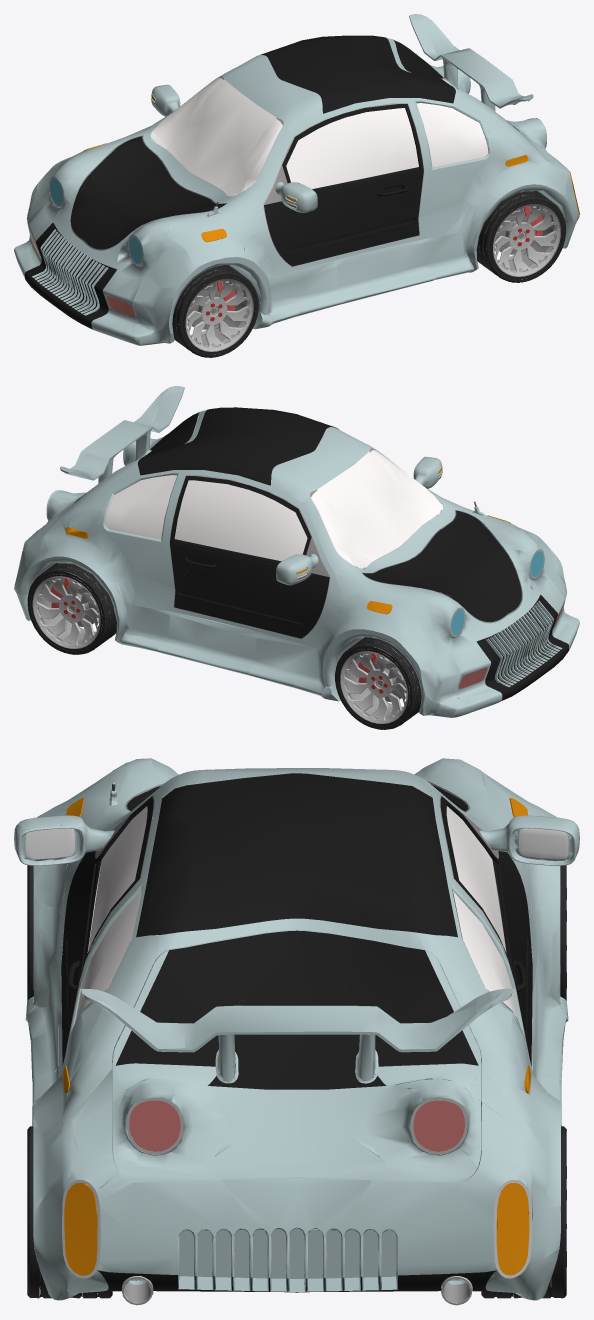
3 views of the same model, one above another, from view 1: azimuth 30°, elevation 25°; view 2: azimuth 150°, elevation 25°; view 3: azimuth 270°, elevation 25° (orthographic). The views are drawn at different scales.
Visible parts, largest first — view 1: Mesh_10.001_LOD_5, door left:1.001_LOD_5, whell v7:2.001_LOD_5, whell v7:1.001_LOD_5, door left(Symétrie miroir):1.001_LOD_5; view 2: Mesh_10.001_LOD_5, door left:1.001_LOD_5, door left(Symétrie miroir):1.001_LOD_5, whell v6(Symétrie miroir):2.001_LOD_5, whell v6(Symétrie miroir):1.001_LOD_5; view 3: Mesh_10.001_LOD_5, door left:1.001_LOD_5, door left(Symétrie miroir):1.001_LOD_5, whell v7:2.001_LOD_5, whell v6(Symétrie miroir):2.001_LOD_5, whell v7:1.001_LOD_5, whell v6(Symétrie miroir):1.001_LOD_5.
Part boxes in pixels (x1,y1,x2,y2): Mesh_10.001_LOD_5: (14,14,579,345); door left:1.001_LOD_5: (263,103,424,267); whell v7:2.001_LOD_5: (476,191,565,282); whell v7:1.001_LOD_5: (172,265,258,357); door left(Symétrie miroir):1.001_LOD_5: (151,84,180,116); Mesh_10.001_LOD_5: (14,386,579,717); door left:1.001_LOD_5: (170,456,442,638); door left(Symétrie miroir):1.001_LOD_5: (169,475,330,639); whell v6(Symétrie miroir):2.001_LOD_5: (27,563,116,654); whell v6(Symétrie miroir):1.001_LOD_5: (335,637,421,729); Mesh_10.001_LOD_5: (25,758,568,1305); door left:1.001_LOD_5: (14,795,532,1065); door left(Symétrie miroir):1.001_LOD_5: (439,795,579,969); whell v7:2.001_LOD_5: (27,1126,112,1298); whell v6(Symétrie miroir):2.001_LOD_5: (481,1126,566,1298); whell v7:1.001_LOD_5: (27,865,33,1001); whell v6(Symétrie miroir):1.001_LOD_5: (560,865,566,1000).
Size of the model in its own units: 0.1644 by 0.0656 by 0.0923.
